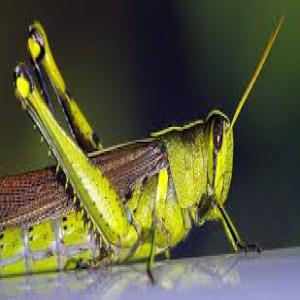locust: (1, 58, 262, 299)
